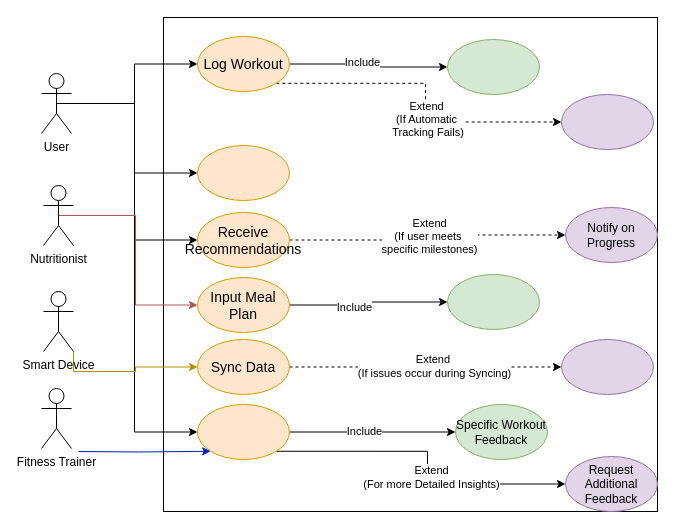
Image size: 675x529. Some labels were removed from this diagram. Each missing label, with the centre of its shape:
"Add Nutrional Info" goes at point 493,302.
"Display Sync Errors" goes at point 607,366.
"Provide Feedback" goes at point 243,432.
"Provide Manual Entry Options" goes at point 607,122.
"Track Duration" goes at point 493,66.
"View Progress" goes at point 243,172.
